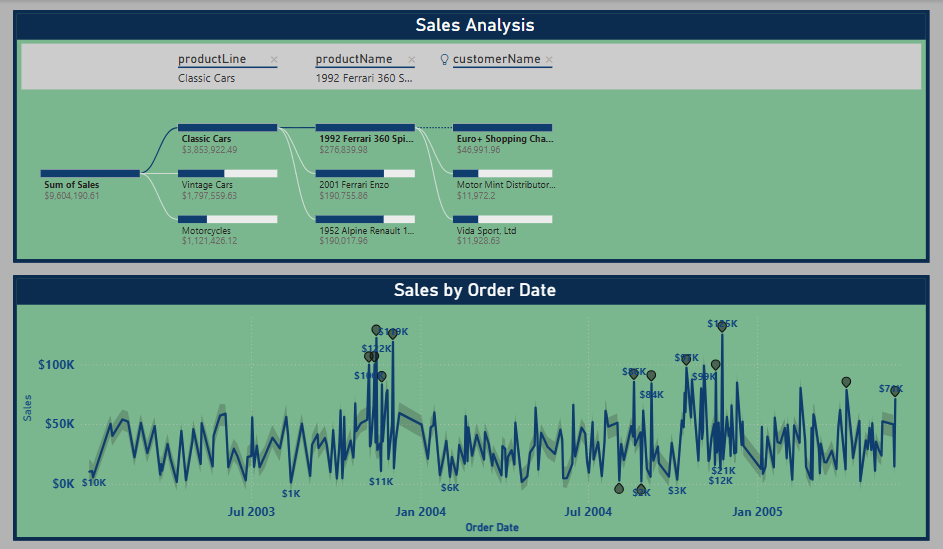

This screenshot's page, from the dashboard's own definition file:
{"tool":"powerbi","page":{"name":"Page 3","canvas":[1280,720],"ordinal":3},"visuals":[{"type":"decompositionTreeVisual","title":"Sales Analysis","fields":{"ExplainBy":["Products.productLine","Products.productName","Customers.customerName"],"Analyze":["Sum(Order_Details.Sales)"]},"box":[45.4,13.2,1200,330.7],"z":1000},{"type":"lineChart","title":"Sales by Order Date","fields":{"Y":["Sum(Order_Details.Sales)"],"Category":["Orders.orderDate"]},"box":[45.4,360,1200,348.3],"z":2000}]}

Visuals, with their boxes on the page's 1280x720 design canvas (x1, y1, x2, y2). These are canvas units, not pixel positions in the 943x549 screenshot, which may show the page scaled, cropped or inside an application window:
"Sales Analysis" decompositionTreeVisual: <region>45, 13, 1245, 344</region>
"Sales by Order Date" lineChart: <region>45, 360, 1245, 708</region>
